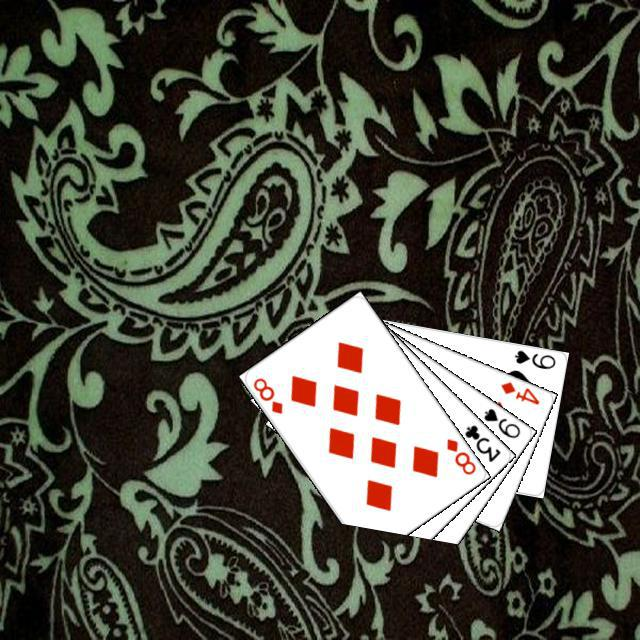3c: (460, 420, 503, 464)
4d: (496, 377, 541, 406)
8d: (441, 433, 478, 477), (248, 373, 284, 416)
9s: (479, 403, 522, 440), (510, 345, 557, 371)
